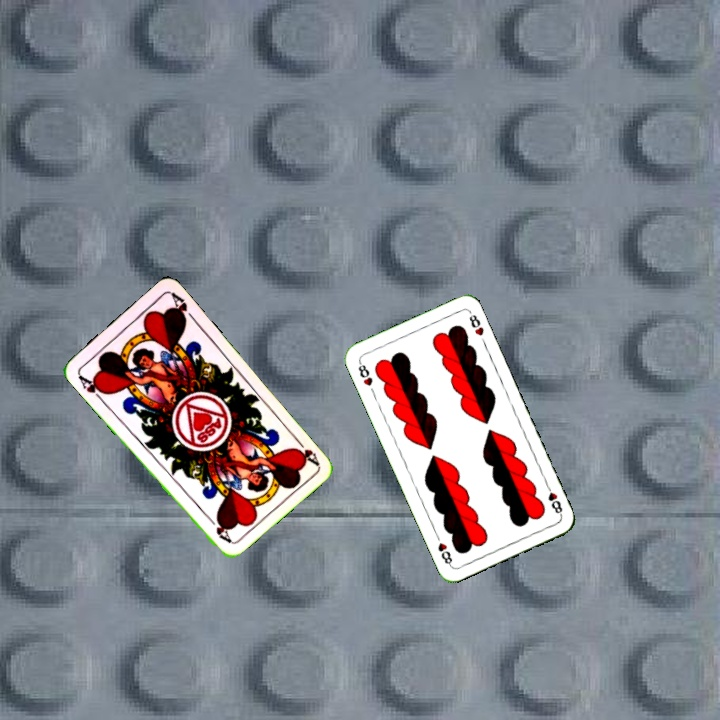H8: (542, 480, 565, 518), (354, 357, 375, 389)
HA: (74, 370, 110, 404), (290, 433, 321, 467)
